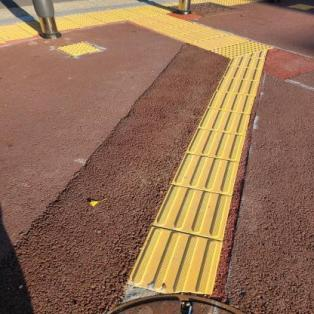Podoctatil: (0, 0, 273, 299), (284, 0, 313, 14)
